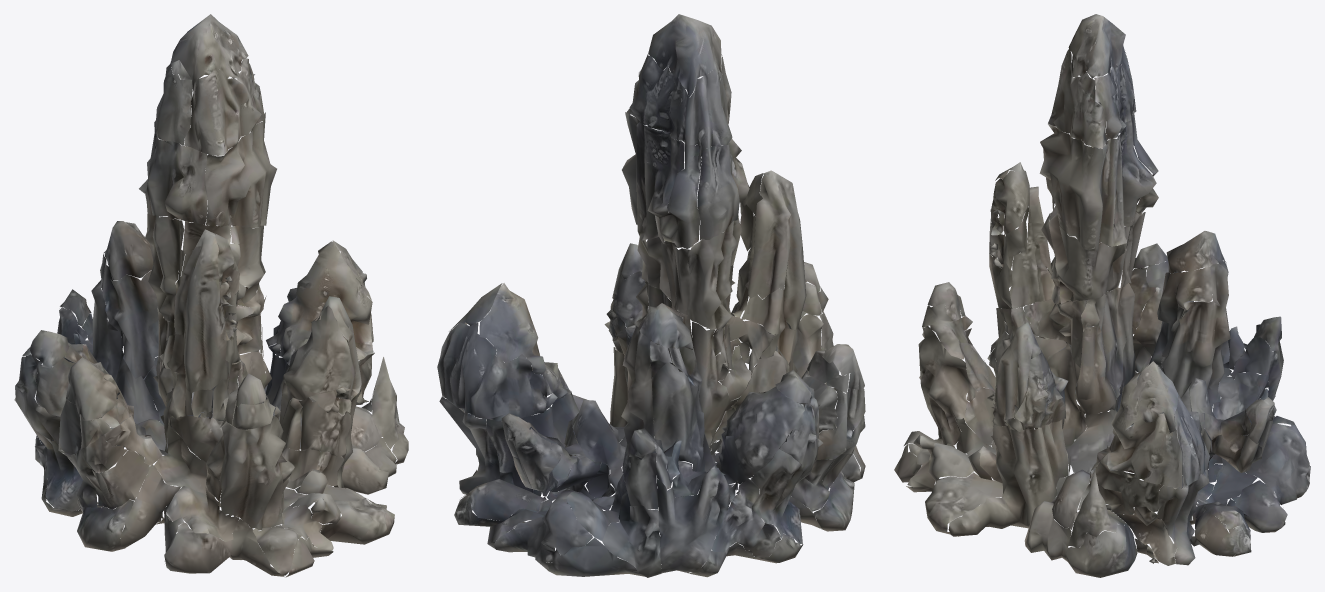
Rendered from env_stalagmite_cluster_LOD1.glb.
3 renders of one model, left to right at view 1: azimuth 30°, elevation 25°; view 2: azimuth 150°, elevation 25°; view 3: azimuth 270°, elevation 25°, orthographic. The views are drawn at different scales.
Parts seen in each view (by area): view 1: tripo_node_b958e5c8-be07-4208-9d87-b0ac715ece63; view 2: tripo_node_b958e5c8-be07-4208-9d87-b0ac715ece63; view 3: tripo_node_b958e5c8-be07-4208-9d87-b0ac715ece63.
Boxes of the visible parts, <box> form: tripo_node_b958e5c8-be07-4208-9d87-b0ac715ece63: <box>14,14,408,577</box>; tripo_node_b958e5c8-be07-4208-9d87-b0ac715ece63: <box>437,14,865,577</box>; tripo_node_b958e5c8-be07-4208-9d87-b0ac715ece63: <box>894,14,1310,577</box>.
Bounding box in the file's own units: 0.7774 × 1 × 0.7937.
1 material, 1 textured.
